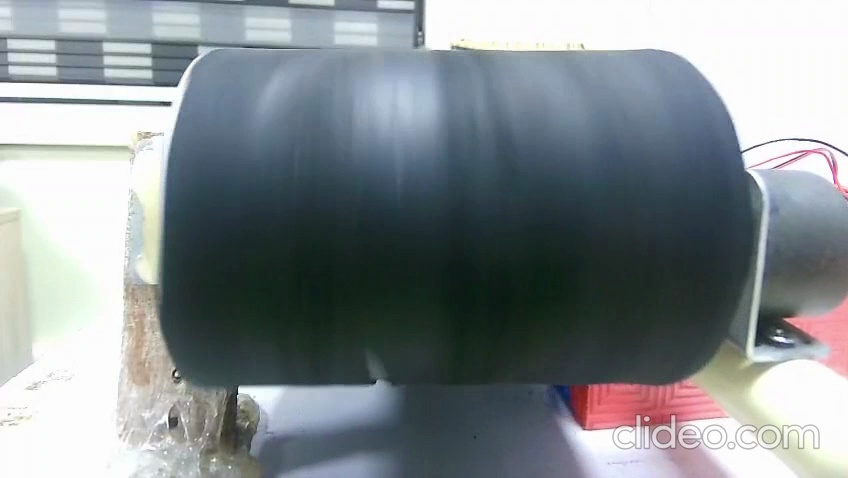hole: (360, 341, 395, 391)
